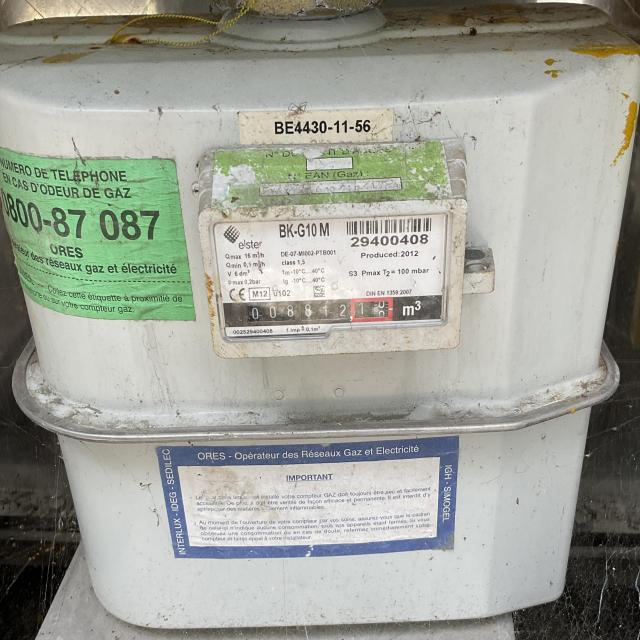gaz_meter: (213, 212, 444, 341)
indication: (242, 296, 393, 327)
